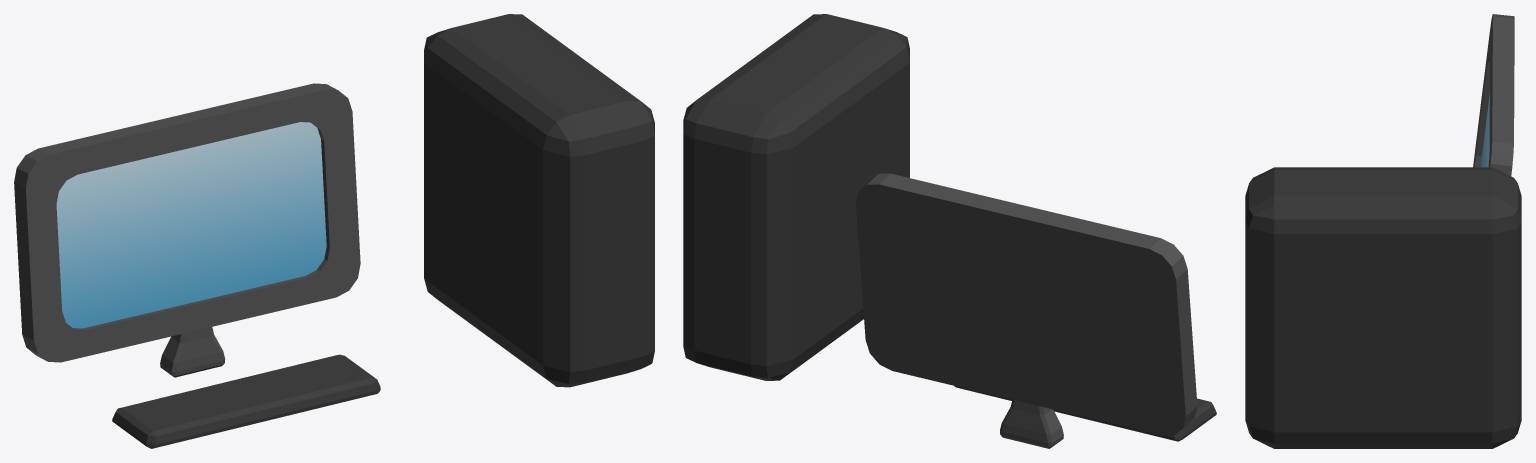
File: computer.fbx
3 views of the same model, side by side, from view 1: azimuth 30°, elevation 25°; view 2: azimuth 150°, elevation 25°; view 3: azimuth 270°, elevation 25° (orthographic). The views are drawn at different scales.
Visible parts, largest first — view 1: Computer; view 2: Computer; view 3: Computer.
Boxes of the visible parts, x1=… form: Computer: x1=14, y1=14, x2=654, y2=448; Computer: x1=683, y1=14, x2=1216, y2=448; Computer: x1=1245, y1=14, x2=1521, y2=448.
Bounding box in the file's own units: 1.11 × 0.565 × 0.5648.
Materials: 1 (1 with a texture image).
